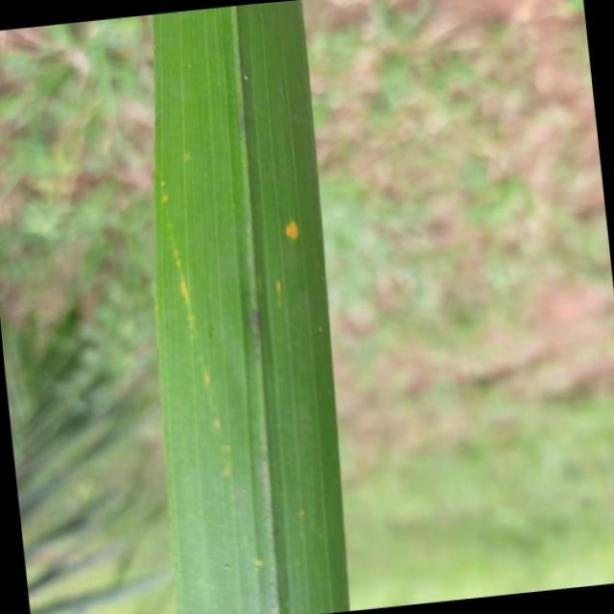Kalium: (145, 0, 352, 614)
